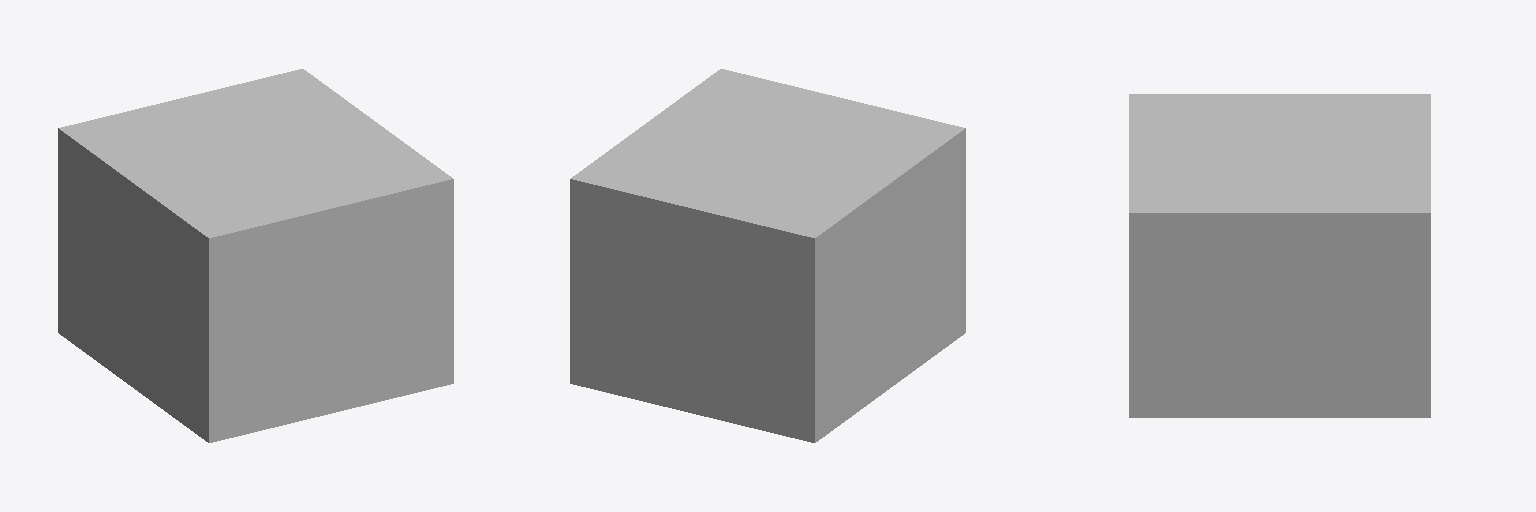
Rendered from CardBoard Box.obj.
3 renders of one model, left to right at view 1: azimuth 30°, elevation 25°; view 2: azimuth 150°, elevation 25°; view 3: azimuth 270°, elevation 25°, orthographic.
Parts seen in each view (by area): view 1: object 1; view 2: object 1; view 3: object 1.
Part boxes in pixels (left/top/right/bottom): object 1: left=58, top=69, right=453, bottom=442; object 1: left=570, top=69, right=965, bottom=442; object 1: left=1129, top=94, right=1430, bottom=417.
Bounding box in the file's own units: 1.5 × 1.2 × 1.6.